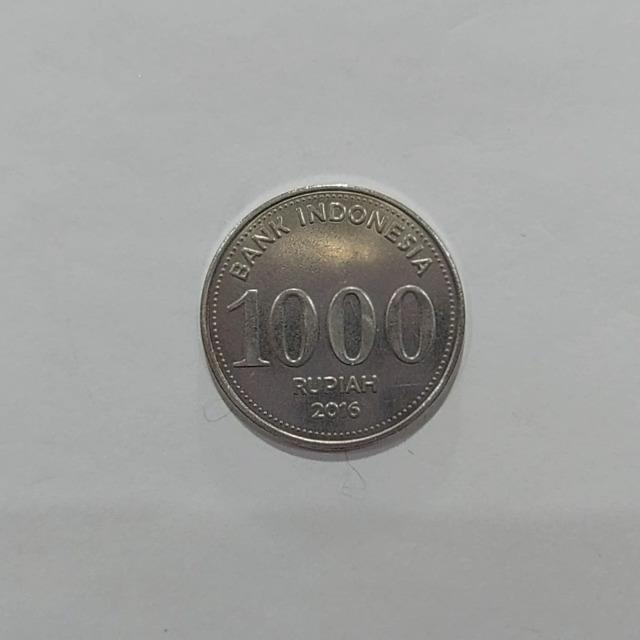Rp100: (197, 182, 467, 460)
